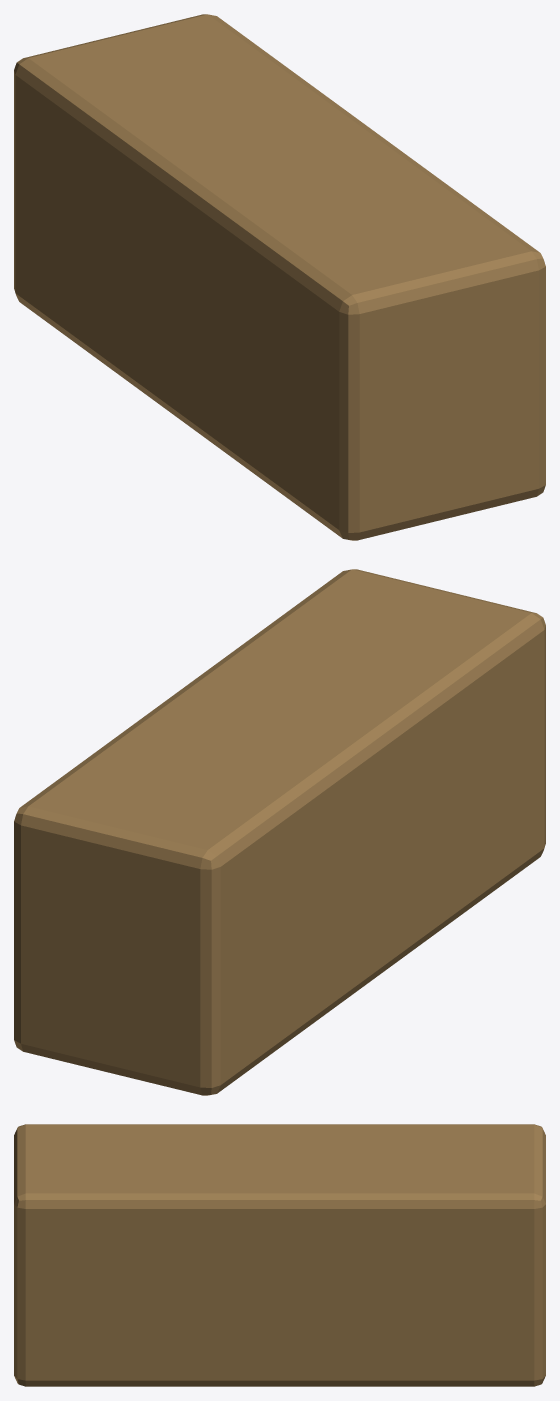
File: Wood.fbx
The picture shows the model from 3 angles, top to bottom: view 1: azimuth 30°, elevation 25°; view 2: azimuth 150°, elevation 25°; view 3: azimuth 270°, elevation 25°; orthographic projection. The views are drawn at different scales.
Visible parts, largest first — view 1: Cube.002; view 2: Cube.002; view 3: Cube.002.
Boxes of the visible parts, x1,y1,x2,y2 form: Cube.002: [14, 14, 545, 540]; Cube.002: [14, 569, 545, 1095]; Cube.002: [14, 1124, 545, 1386].
Size of the model in its own units: 7 by 8 by 20.
